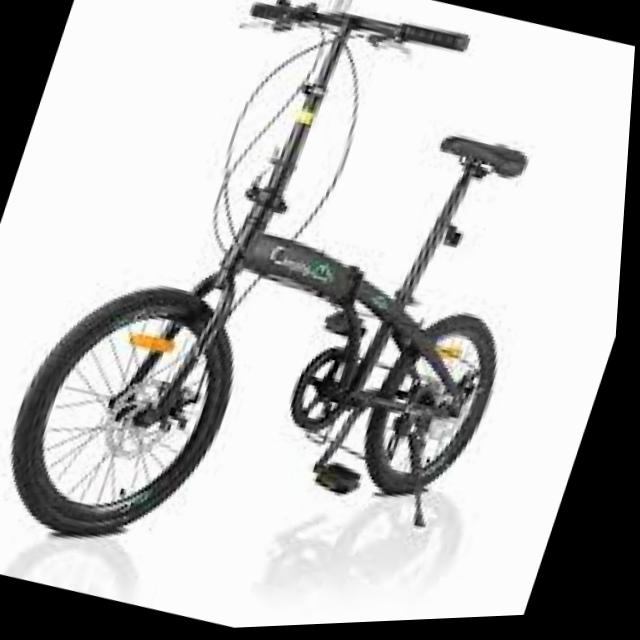folding-bike: (0, 0, 613, 639)
